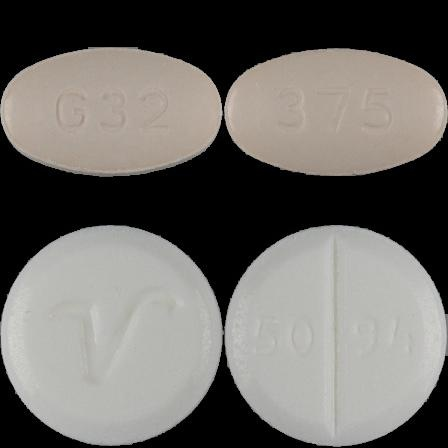52959-191: (0, 0, 224, 224)
